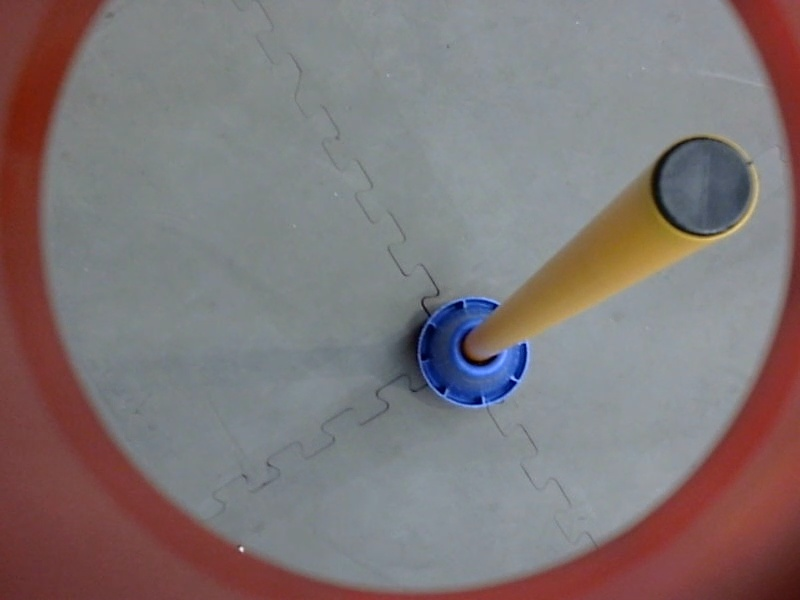tip: (647, 129, 762, 250)
